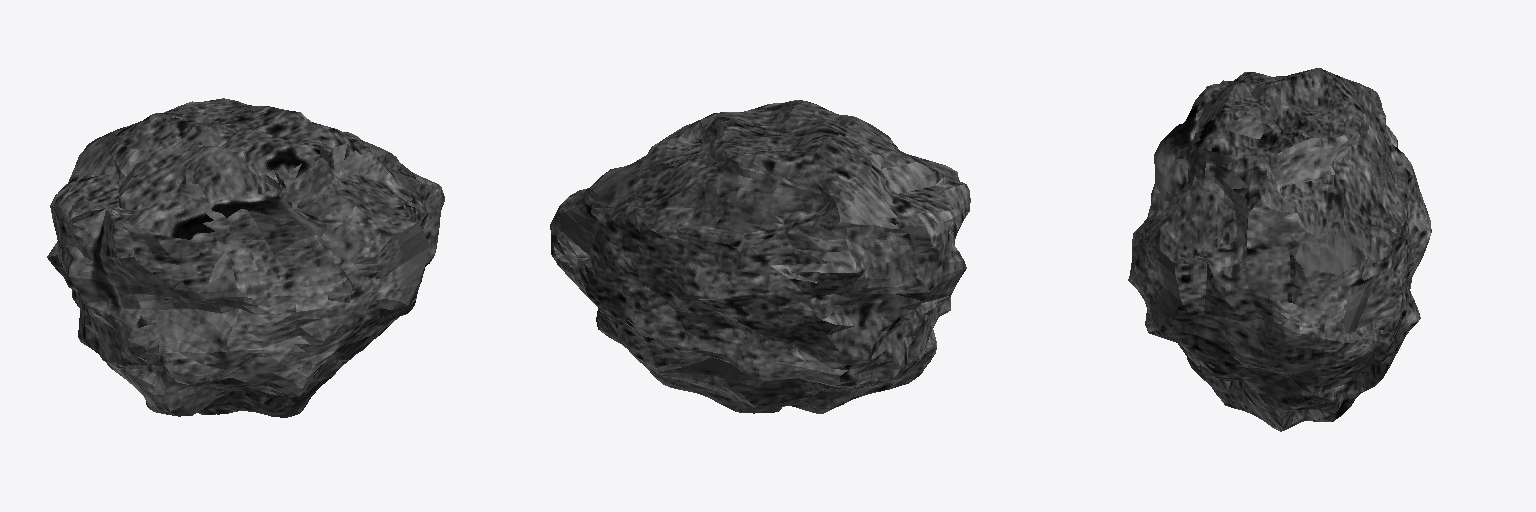
3 renders of one model, left to right at view 1: azimuth 30°, elevation 25°; view 2: azimuth 150°, elevation 25°; view 3: azimuth 270°, elevation 25°, orthographic.
Visible parts, largest first — view 1: pasted__pSphere4 group15; view 2: pasted__pSphere4 group15; view 3: pasted__pSphere4 group15.
Boxes of the visible parts, x1=… form: pasted__pSphere4 group15: x1=47, y1=98, x2=444, y2=417; pasted__pSphere4 group15: x1=550, y1=100, x2=970, y2=413; pasted__pSphere4 group15: x1=1128, y1=68, x2=1431, y2=431.
Bounding box in the file's own units: 2.1 × 1.52 × 1.43.
1 materials, 1 textured.